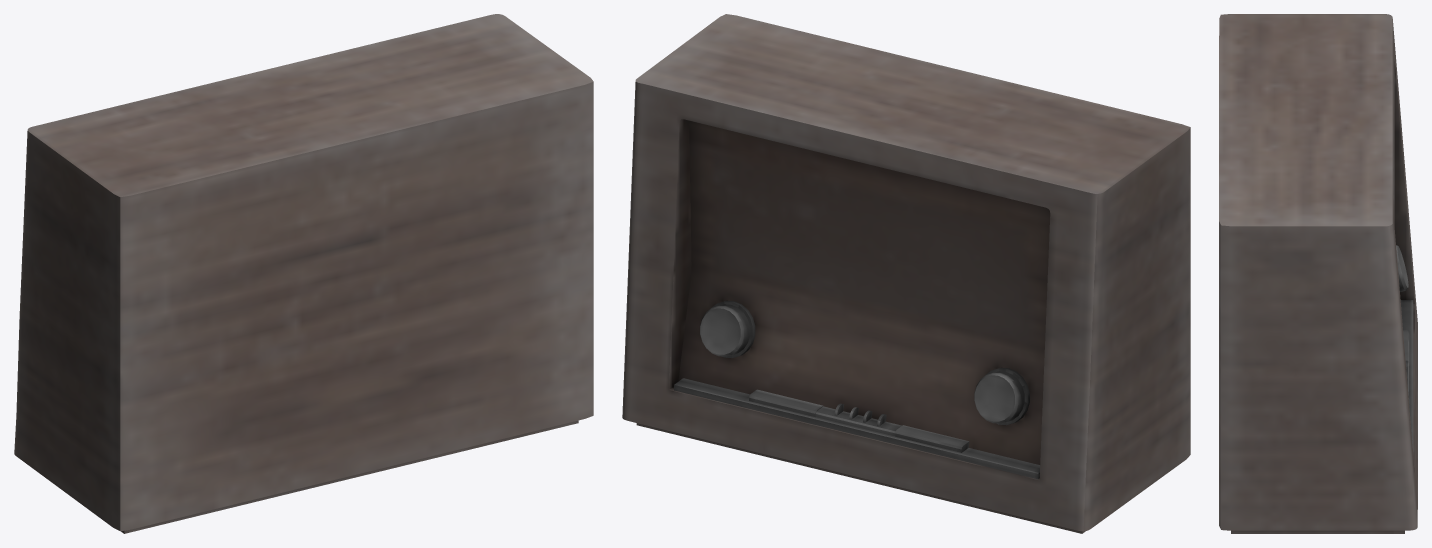
File: Radio.FBX
The picture shows the model from 3 angles, left to right: view 1: azimuth 30°, elevation 25°; view 2: azimuth 150°, elevation 25°; view 3: azimuth 270°, elevation 25°; orthographic projection. The views are drawn at different scales.
Visible parts, largest first — view 1: Radio; view 2: Radio; view 3: Radio.
Part boxes in pixels (box(x1,y1,x2,y2)): Radio: box(14, 14, 593, 533); Radio: box(622, 14, 1190, 533); Radio: box(1219, 14, 1417, 533).
Size of the model in its own units: 0.4289 by 0.1698 by 0.2949.
